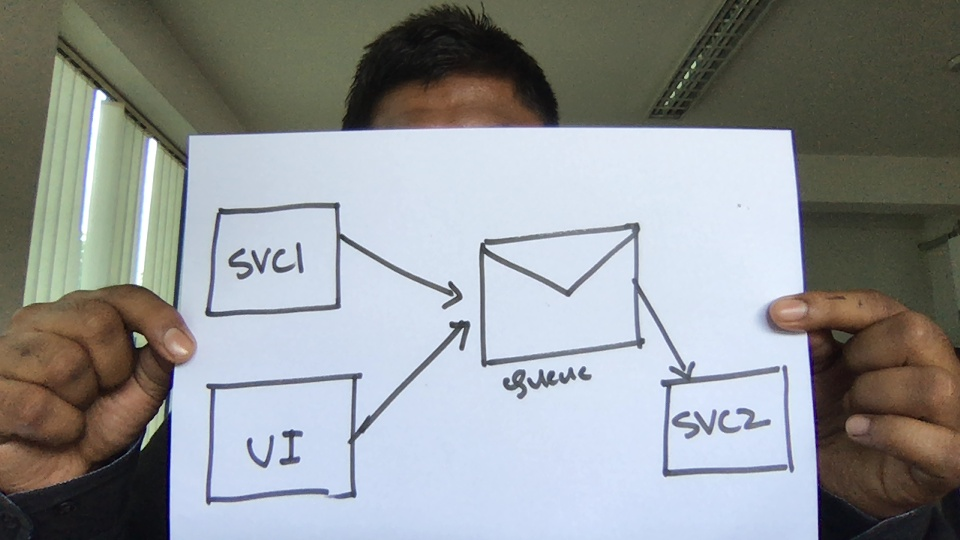ec2: (200, 196, 353, 324), (649, 361, 802, 489)
sns: (473, 218, 660, 397)
ui: (204, 369, 363, 506)
